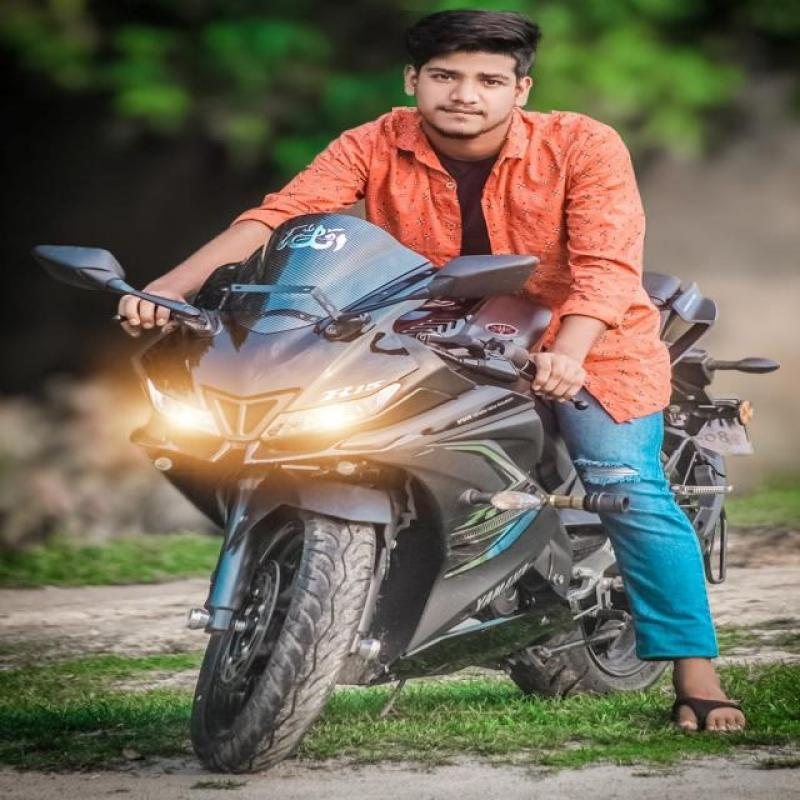nohelmet: (392, 12, 556, 138)
